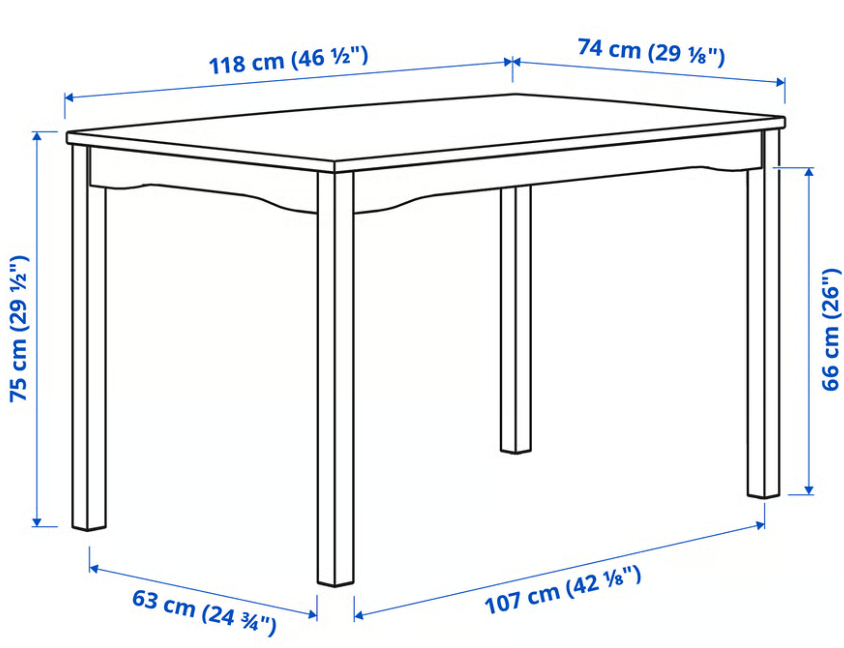table_legs: (317, 171, 354, 586), (72, 144, 107, 529), (747, 129, 780, 498), (500, 186, 532, 453)
table_support: (353, 131, 762, 214), (89, 146, 318, 213)
table_top: (67, 93, 786, 173)
